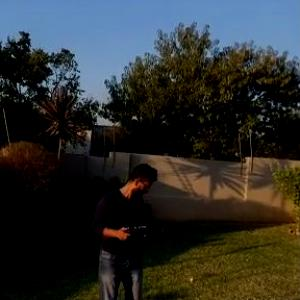follow: (88, 160, 160, 299)
